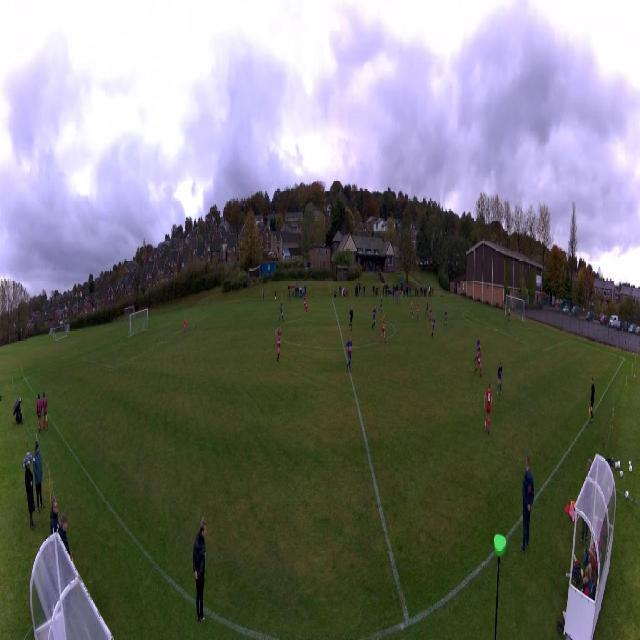ball: (485, 421, 488, 428)
player: (484, 382, 492, 434), (345, 336, 353, 373), (474, 345, 482, 377), (276, 325, 282, 362), (497, 362, 503, 394), (380, 315, 386, 344), (475, 335, 481, 363), (372, 305, 377, 330), (349, 306, 354, 331), (279, 300, 284, 321), (431, 314, 435, 338), (444, 308, 448, 329), (409, 300, 413, 318), (378, 296, 382, 313), (428, 307, 432, 323), (424, 303, 428, 318), (305, 298, 308, 316), (417, 302, 420, 320), (508, 306, 511, 323), (396, 292, 399, 306), (184, 317, 186, 337), (304, 295, 306, 313), (399, 290, 401, 302)
